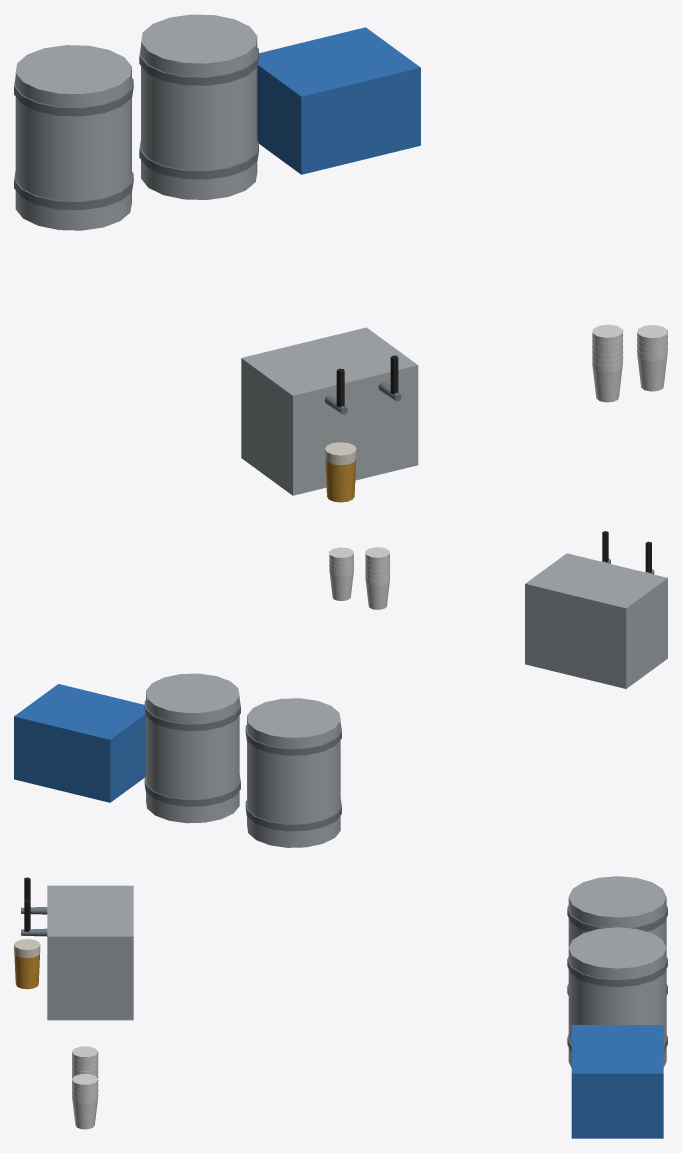
The model's file is goods_beer.glb.
3 renders of one model, top to bottom at view 1: azimuth 30°, elevation 25°; view 2: azimuth 150°, elevation 25°; view 3: azimuth 270°, elevation 25°, orthographic. The views are drawn at different scales.
Visible parts, largest first — view 1: goods_beer; view 2: goods_beer; view 3: goods_beer.
Part boxes in pixels (x1,y1,x2,y2): goods_beer: [14, 14, 667, 502]; goods_beer: [14, 531, 667, 847]; goods_beer: [14, 876, 667, 1138].
Size of the model in its own units: 1.48 by 0.4708 by 2.27.
